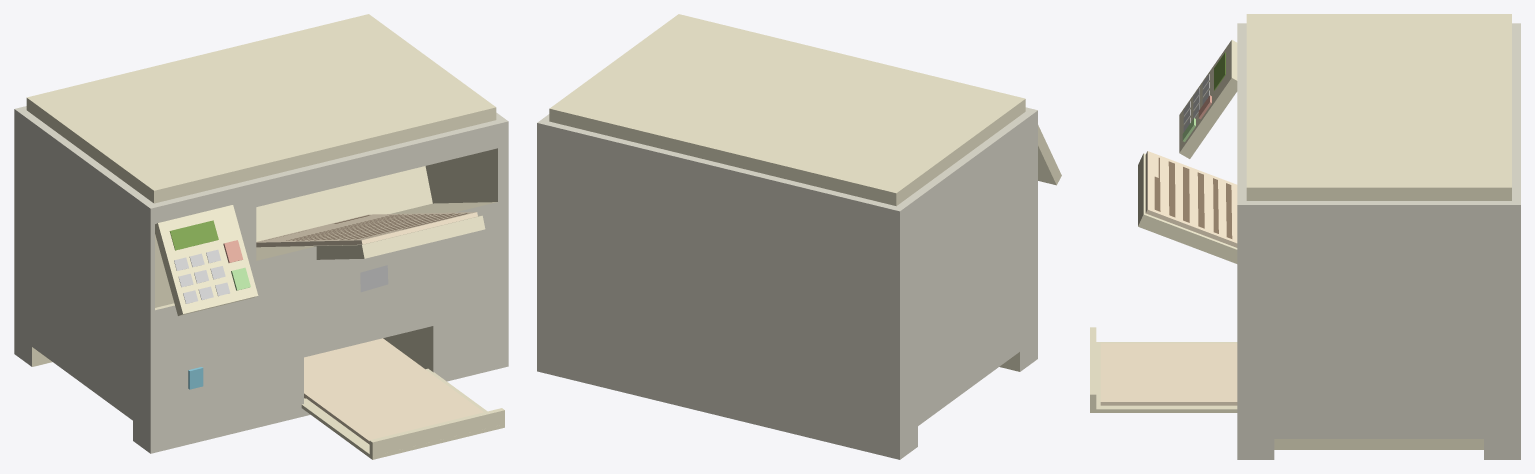
The model's file is printer.fbx.
3 renders of one model, left to right at view 1: azimuth 30°, elevation 25°; view 2: azimuth 150°, elevation 25°; view 3: azimuth 270°, elevation 25°, orthographic. The views are drawn at different scales.
Visible parts, largest first — view 1: Boole_2; view 2: Boole_2; view 3: Boole_2.
Boxes of the visible parts, left/top/right/bottom form: Boole_2: left=14, top=14, right=508, bottom=459; Boole_2: left=537, top=14, right=1061, bottom=459; Boole_2: left=1090, top=14, right=1520, bottom=459.
Bounding box in the file's own units: 21.21 × 14.6 × 21.26.
